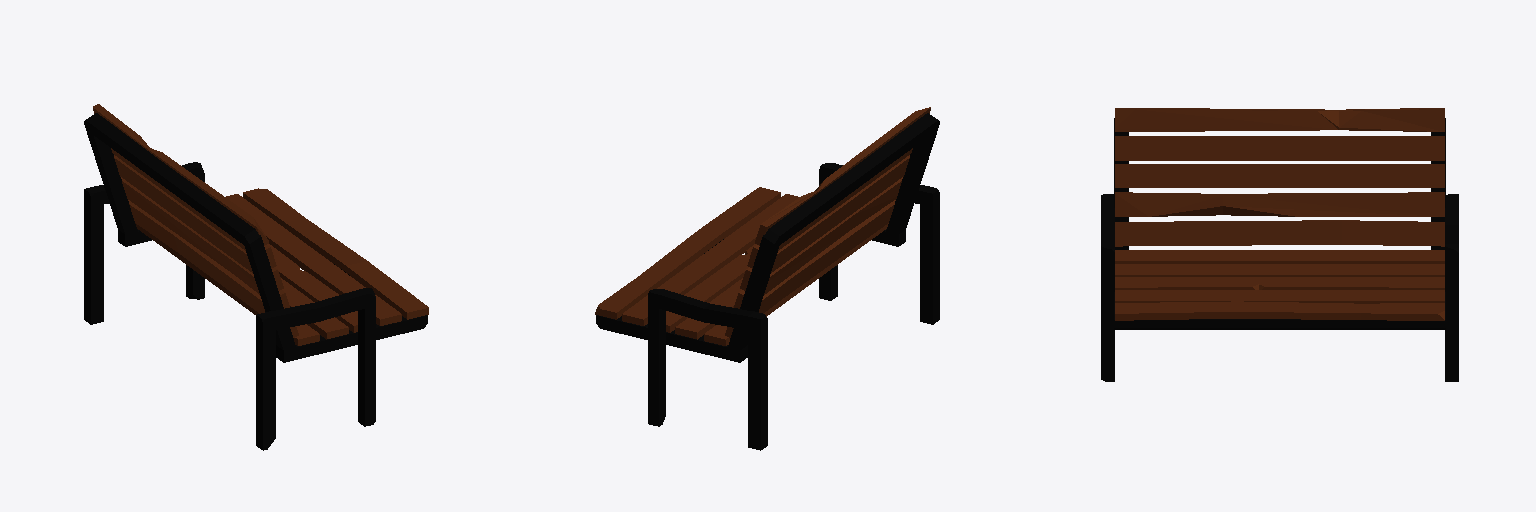
The model's file is ParkBench.obj.
3 views of the same model, side by side, from view 1: azimuth 30°, elevation 25°; view 2: azimuth 150°, elevation 25°; view 3: azimuth 270°, elevation 25° (orthographic).
Visible parts, largest first — view 1: Park_Bench_Cube; view 2: Park_Bench_Cube; view 3: Park_Bench_Cube.
Part boxes in pixels (x1,y1,x2,y2): Park_Bench_Cube: (84, 104, 428, 450); Park_Bench_Cube: (595, 107, 939, 450); Park_Bench_Cube: (1101, 108, 1458, 381).
Size of the model in its own units: 1.84 by 2.13 by 3.13.